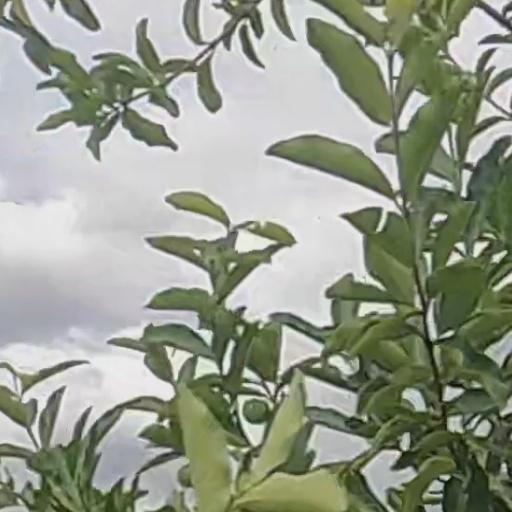acerola: (244, 400, 271, 422)
